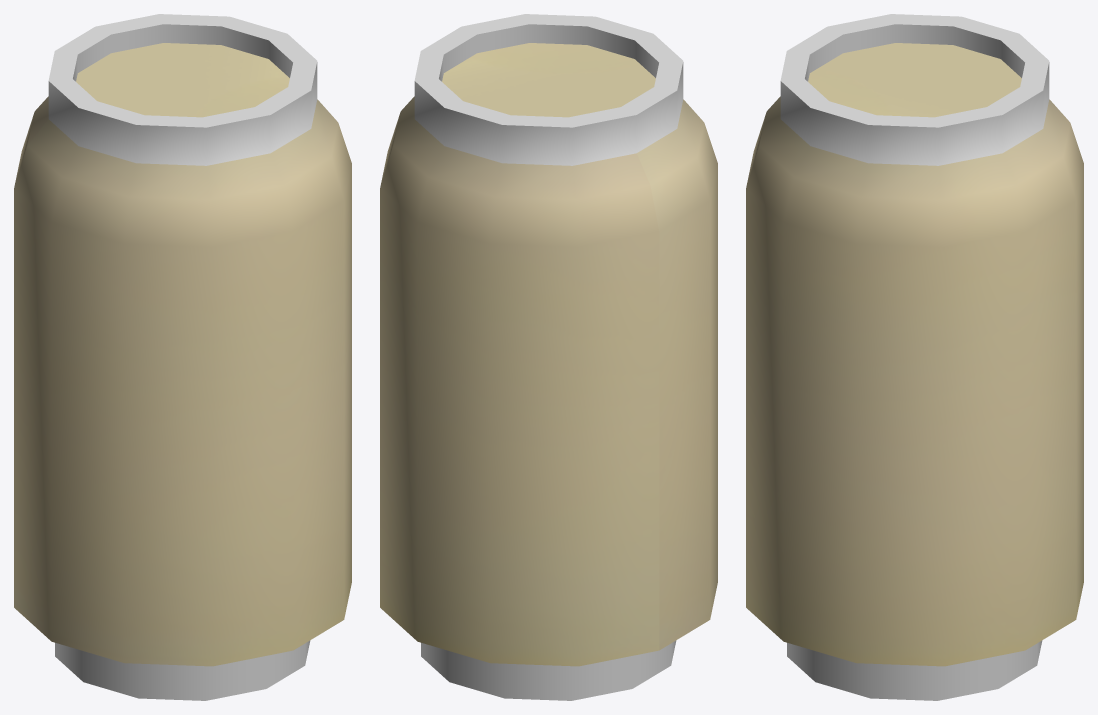
File: SM_drink_tea_02.fbx
3 views of the same model, side by side, from view 1: azimuth 30°, elevation 25°; view 2: azimuth 150°, elevation 25°; view 3: azimuth 270°, elevation 25° (orthographic).
Parts seen in each view (by area): view 1: Cylinder060; view 2: Cylinder060; view 3: Cylinder060.
Part boxes in pixels (bbox=[...]): Cylinder060: bbox=[14, 14, 351, 700]; Cylinder060: bbox=[380, 14, 717, 700]; Cylinder060: bbox=[746, 14, 1083, 700].
Size of the model in its own units: 8.67 by 16.3 by 8.67.
